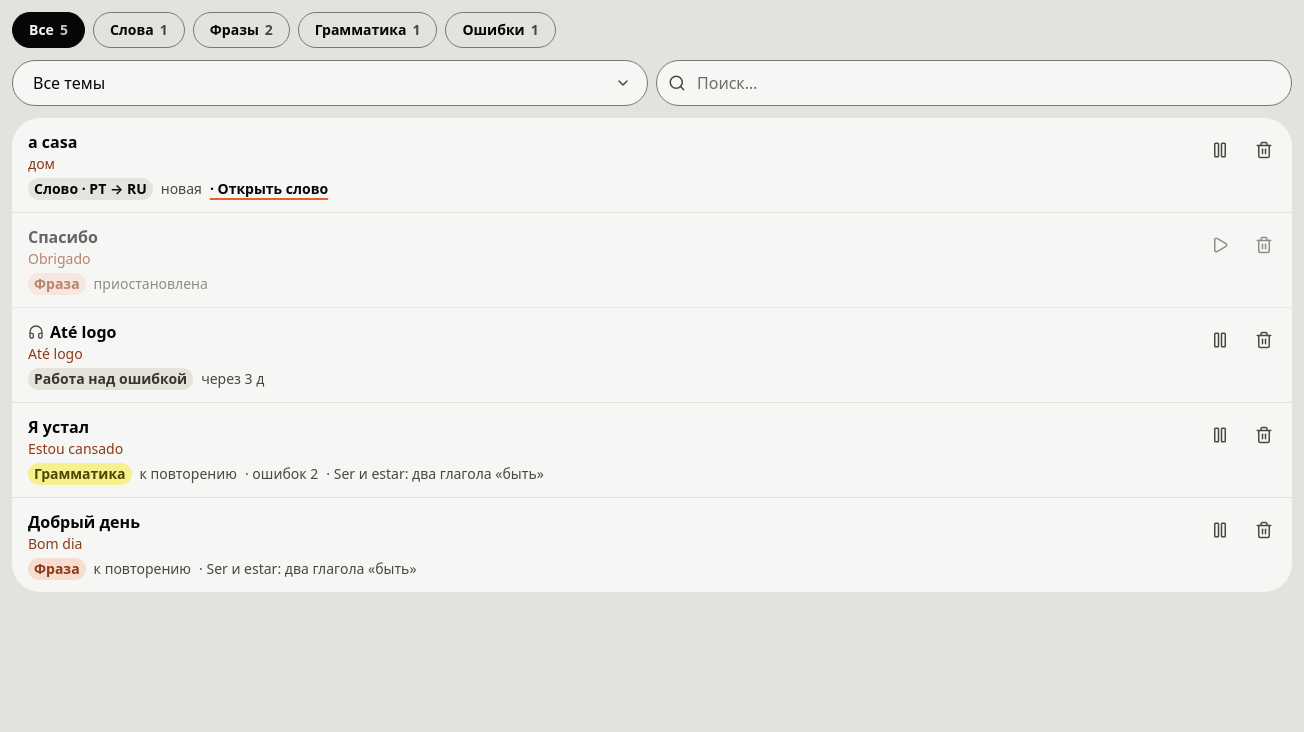
CardList · filters › search matches front or back, case-insensitively; no match → empty state
Type "OBRIG" into the search field named "Поиск по карточкам".
click(974, 83); type("OBRIG")  # box [656,60,1292,106]
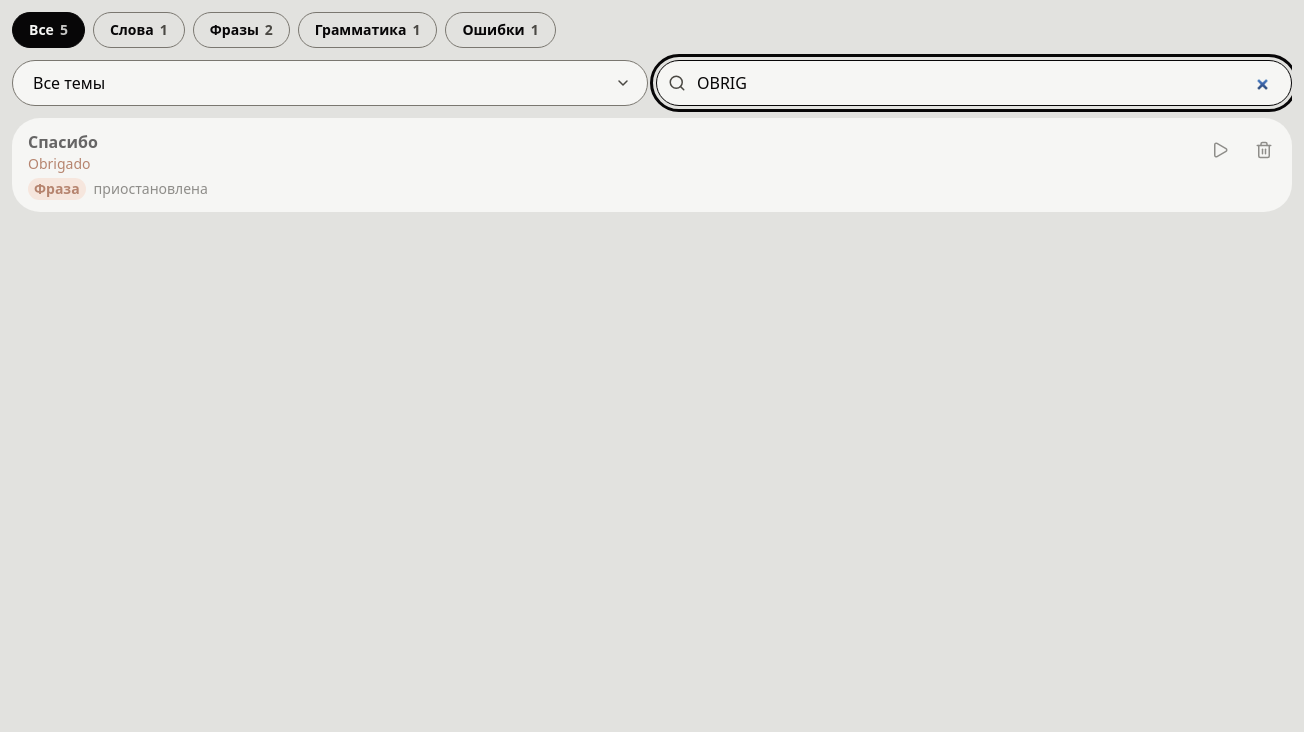
Replace the text in the search field named "Поиск по карточкам" with "устал" at (974, 83), box [656,60,1292,106]
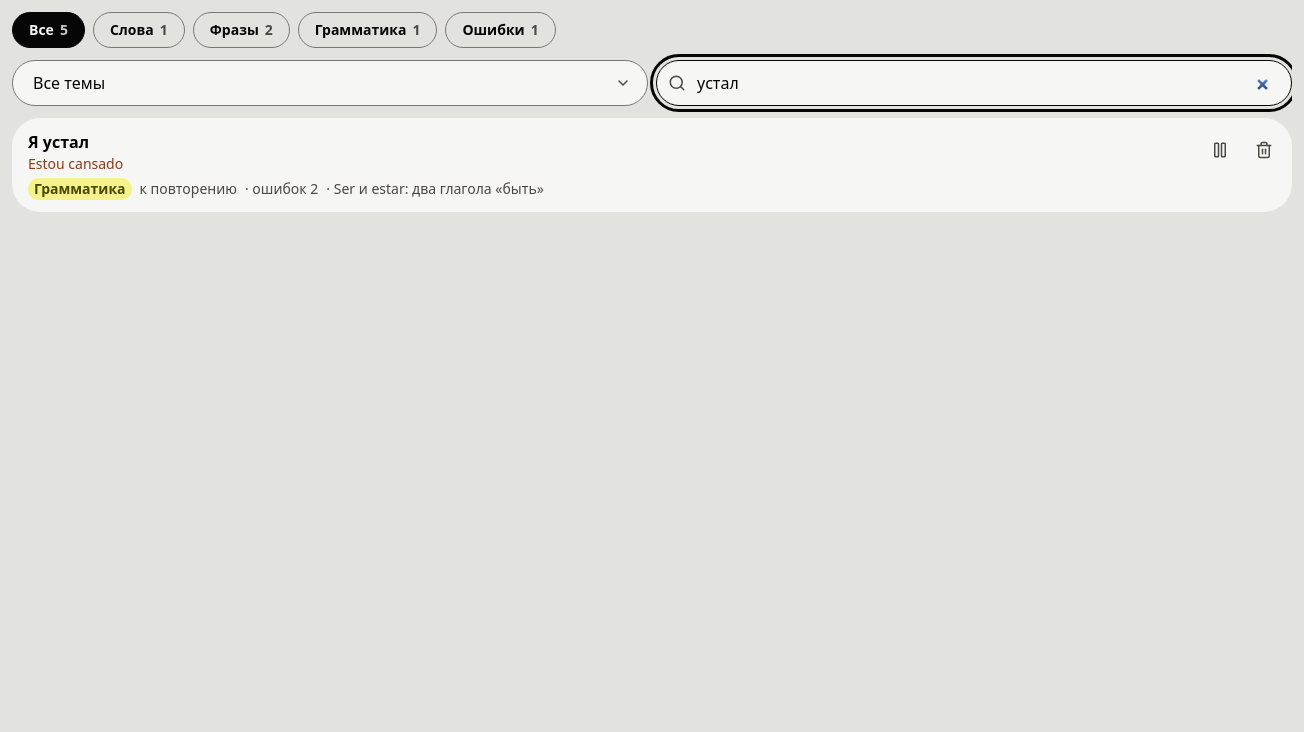
Type "zzz" into the search field named "Поиск по карточкам".
click(974, 83); type("zzz")  # box [656,60,1292,106]
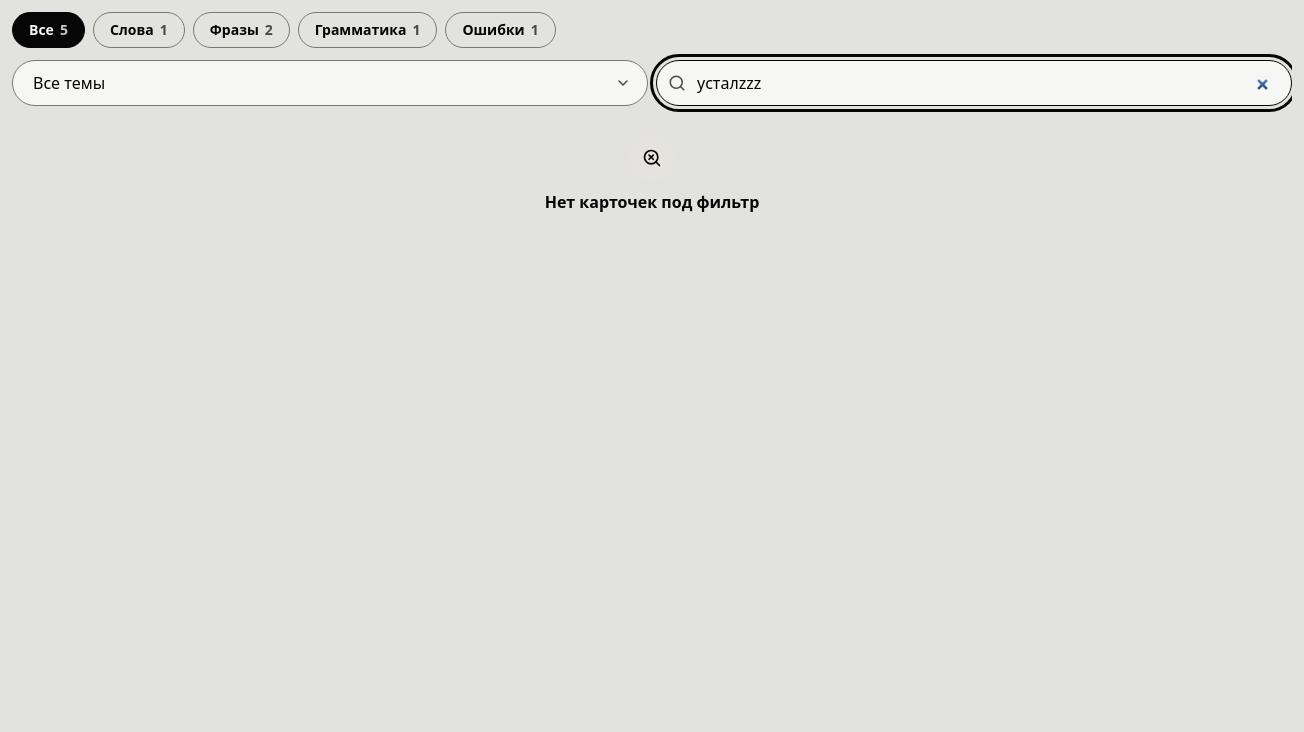
Now the text "Нет карточек под фильтр" is shown, box [545,190,759,214]
Now the list is gone
